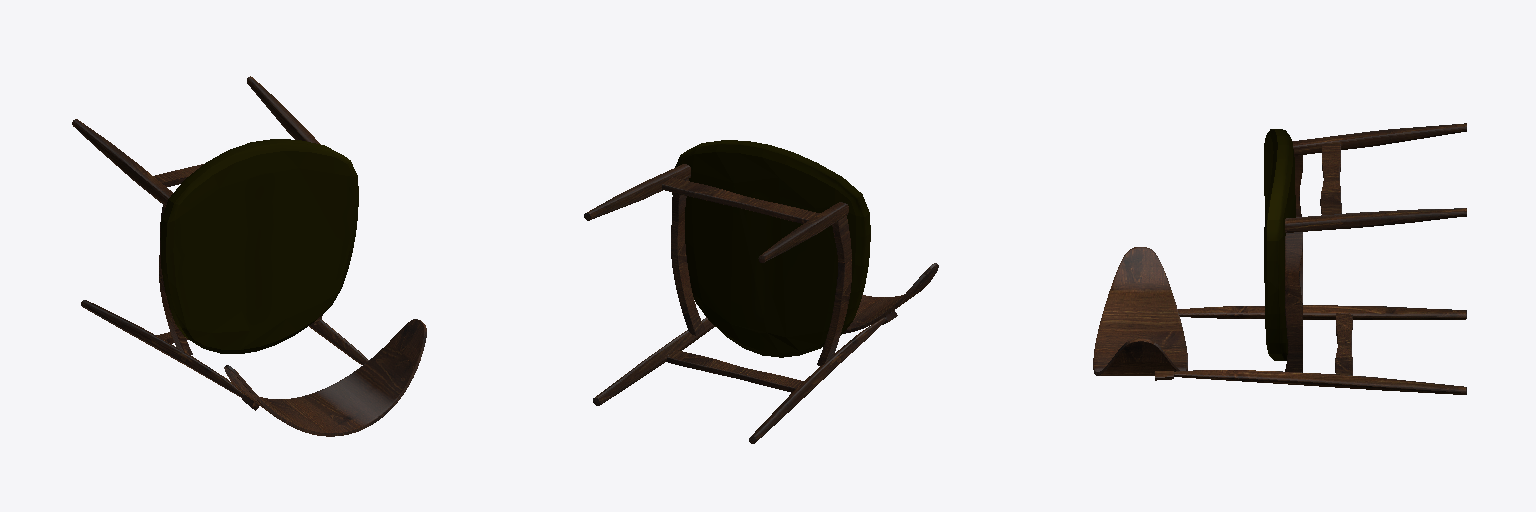
The picture shows the model from 3 angles: view 1: azimuth 30°, elevation 25°; view 2: azimuth 150°, elevation 25°; view 3: azimuth 270°, elevation 25°; orthographic projection.
Bounding box in the file's own units: 0.4915 × 0.5365 × 0.8215.
Materials: 1 (1 with a texture image).